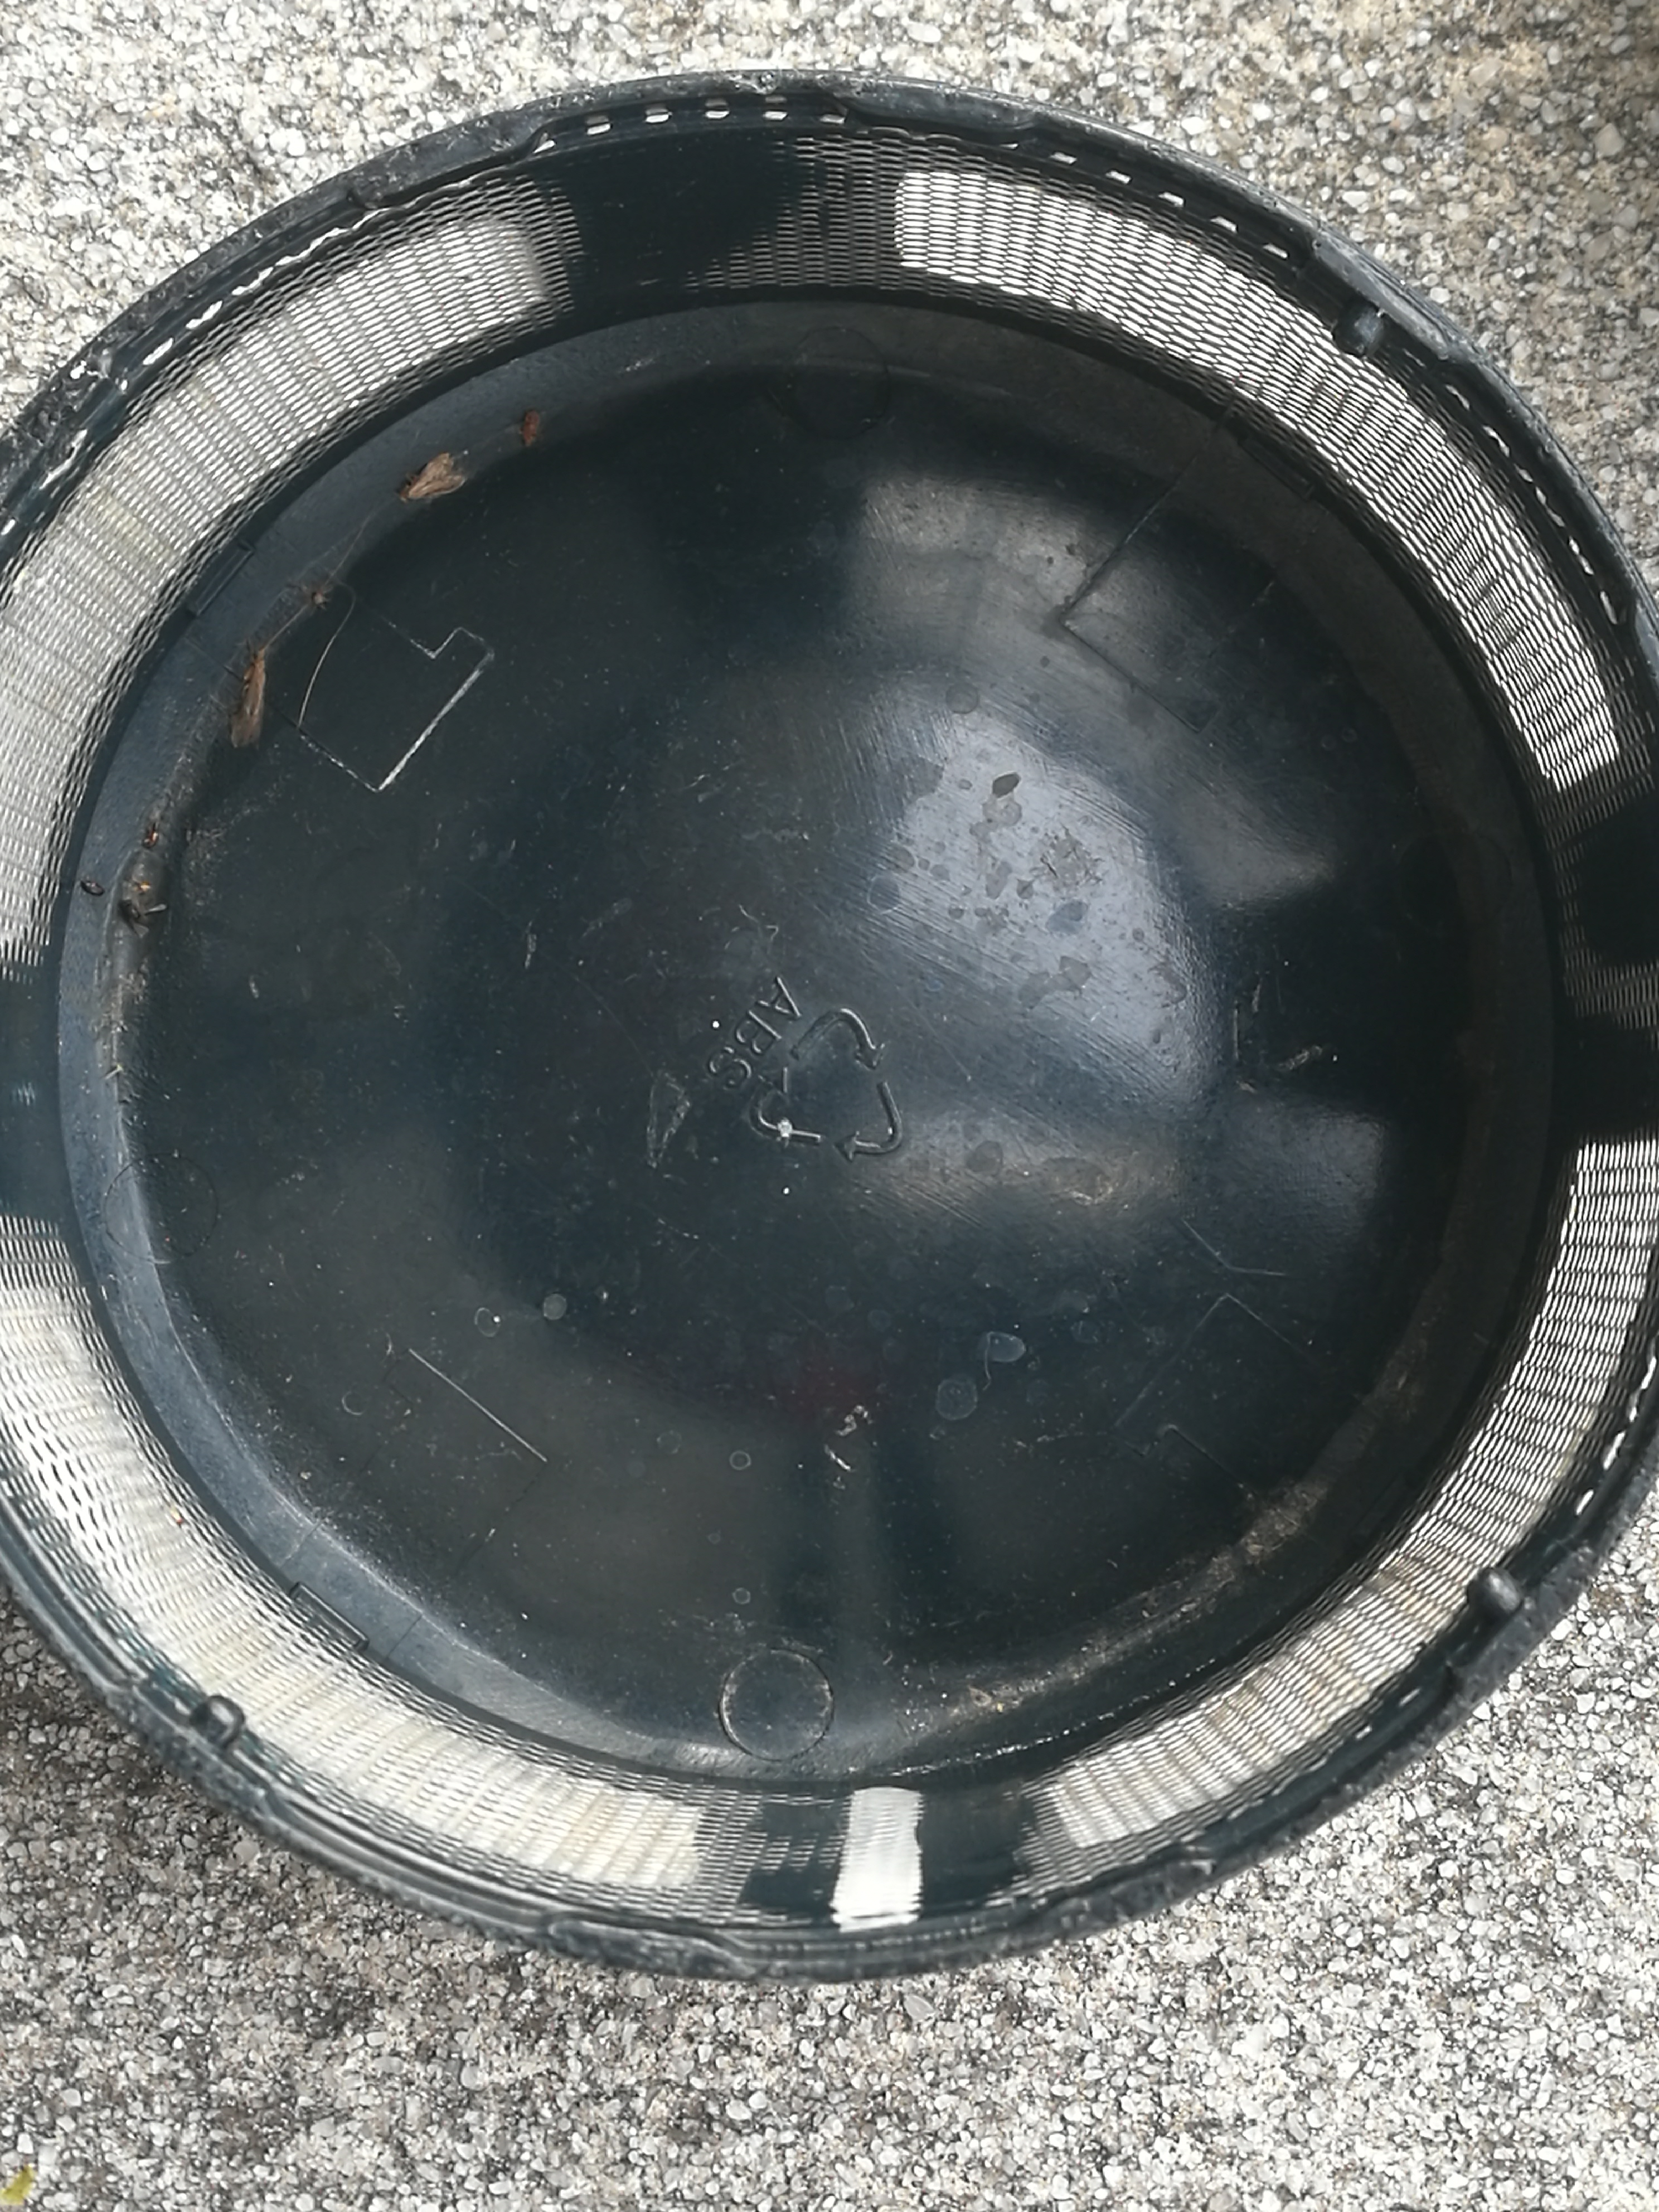mosquito: (234, 650, 265, 742)
moth: (394, 455, 464, 500)
